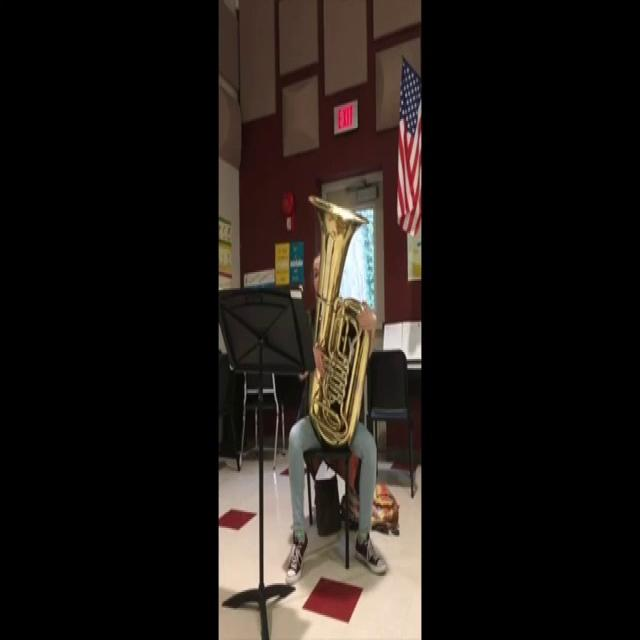Tuba: (310, 179, 374, 449)
